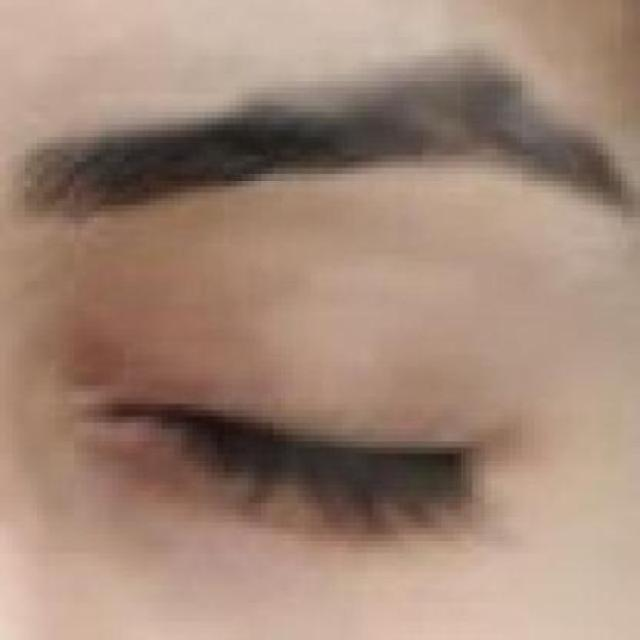drowsy: (72, 281, 530, 597)
